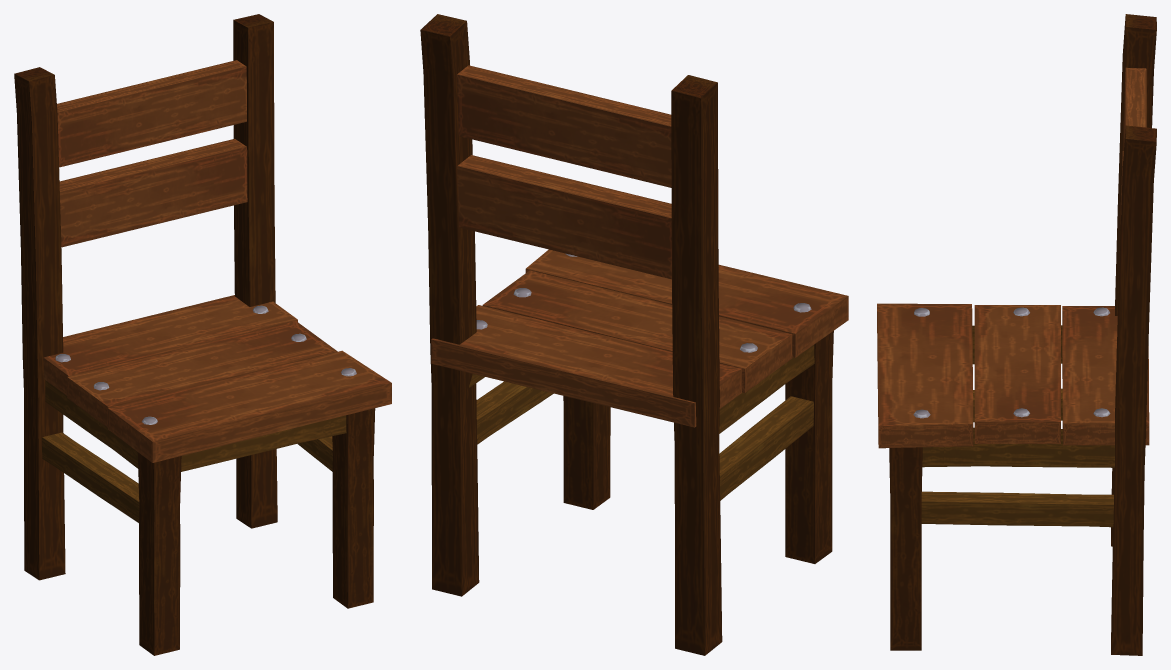
The model's file is Chair_1.gltf.
3 views of the same model, side by side, from view 1: azimuth 30°, elevation 25°; view 2: azimuth 150°, elevation 25°; view 3: azimuth 270°, elevation 25° (orthographic). The views are drawn at different scales.
Parts seen in each view (by area): view 1: Chair_1; view 2: Chair_1; view 3: Chair_1.
Part boxes in pixels (left/top/right/bottom): Chair_1: left=14, top=14, right=391, bottom=655; Chair_1: left=420, top=14, right=848, bottom=655; Chair_1: left=877, top=14, right=1156, bottom=655.
Size of the model in its own units: 0.5805 by 1.12 by 0.5489.
2 materials, 2 textured.
